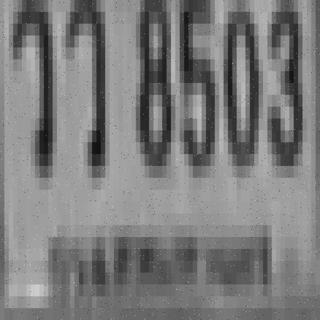N00: (219, 12, 259, 154)
